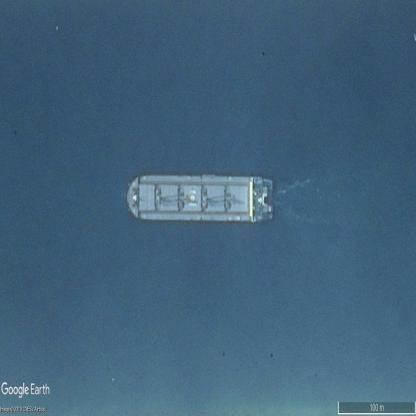ship: (127, 175, 276, 223)
